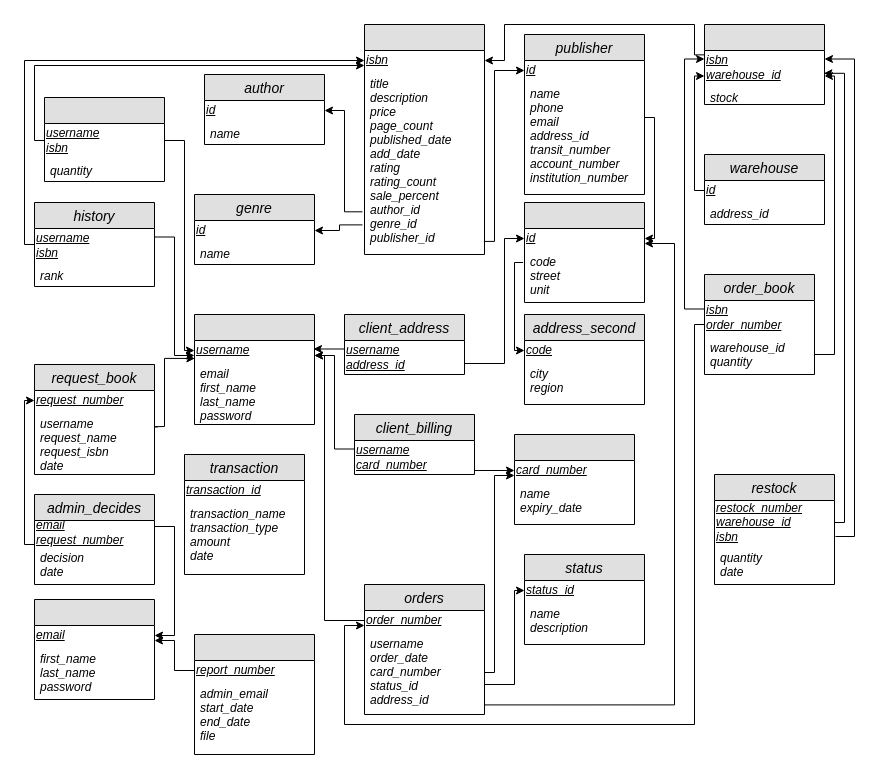
This 880x775 diagram has some shape labels left out. The box of each missing label's shape, as (x1, y1, x2, y2) in pixels:
address_main: (524, 202, 644, 302)
admin: (34, 598, 154, 700)
book: (364, 24, 484, 254)
cart: (44, 96, 164, 182)
client: (194, 314, 314, 424)
payment_info: (514, 434, 634, 524)
sales_report: (194, 634, 314, 754)
warehouse_book: (704, 24, 824, 104)
